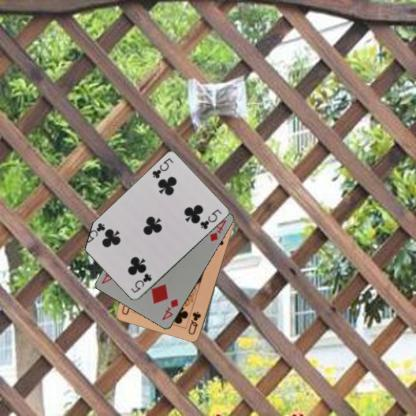4d: (160, 296, 180, 322)
5c: (150, 156, 174, 180), (128, 271, 153, 294)
Qc: (186, 309, 202, 336)
